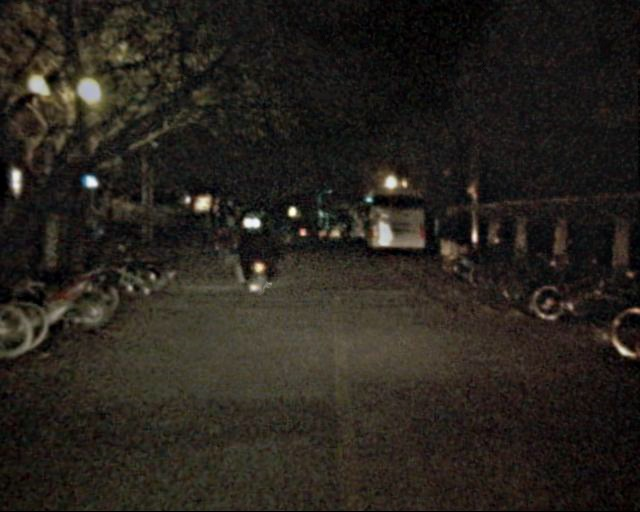person: (241, 223, 264, 278), (212, 215, 233, 266), (334, 221, 351, 242)
